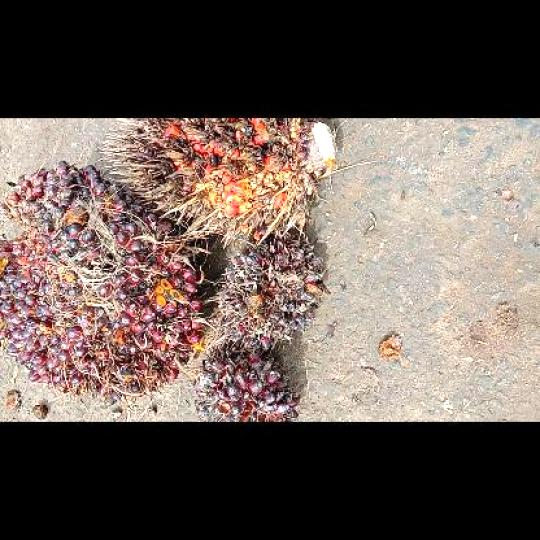masak: (0, 159, 205, 411)
terlalu masak: (92, 119, 339, 250)
